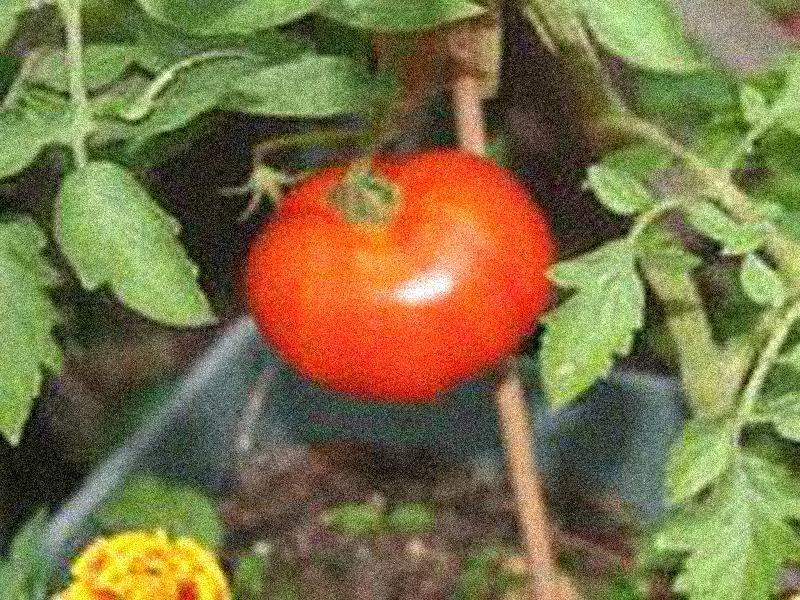Tomato: (241, 147, 559, 398)
